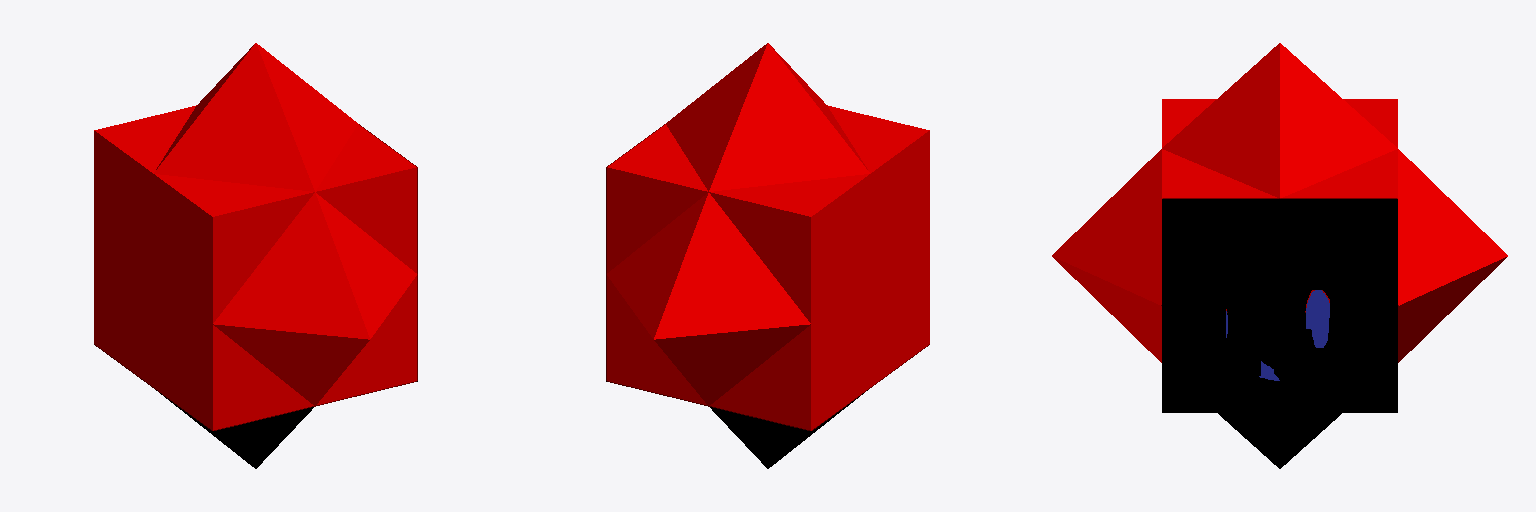
The picture shows the model from 3 angles: view 1: azimuth 30°, elevation 25°; view 2: azimuth 150°, elevation 25°; view 3: azimuth 270°, elevation 25°; orthographic projection.
Parts seen in each view (by area): view 1: 立方体; view 2: 立方体; view 3: 立方体.
Part boxes in pixels (x1,y1,x2,y2): 立方体: (94,43,417,468); 立方体: (606,43,929,468); 立方体: (1052,43,1507,468).
Size of the model in its own units: 2 by 3.98 by 3.86.
Materials: 1 (1 with a texture image).